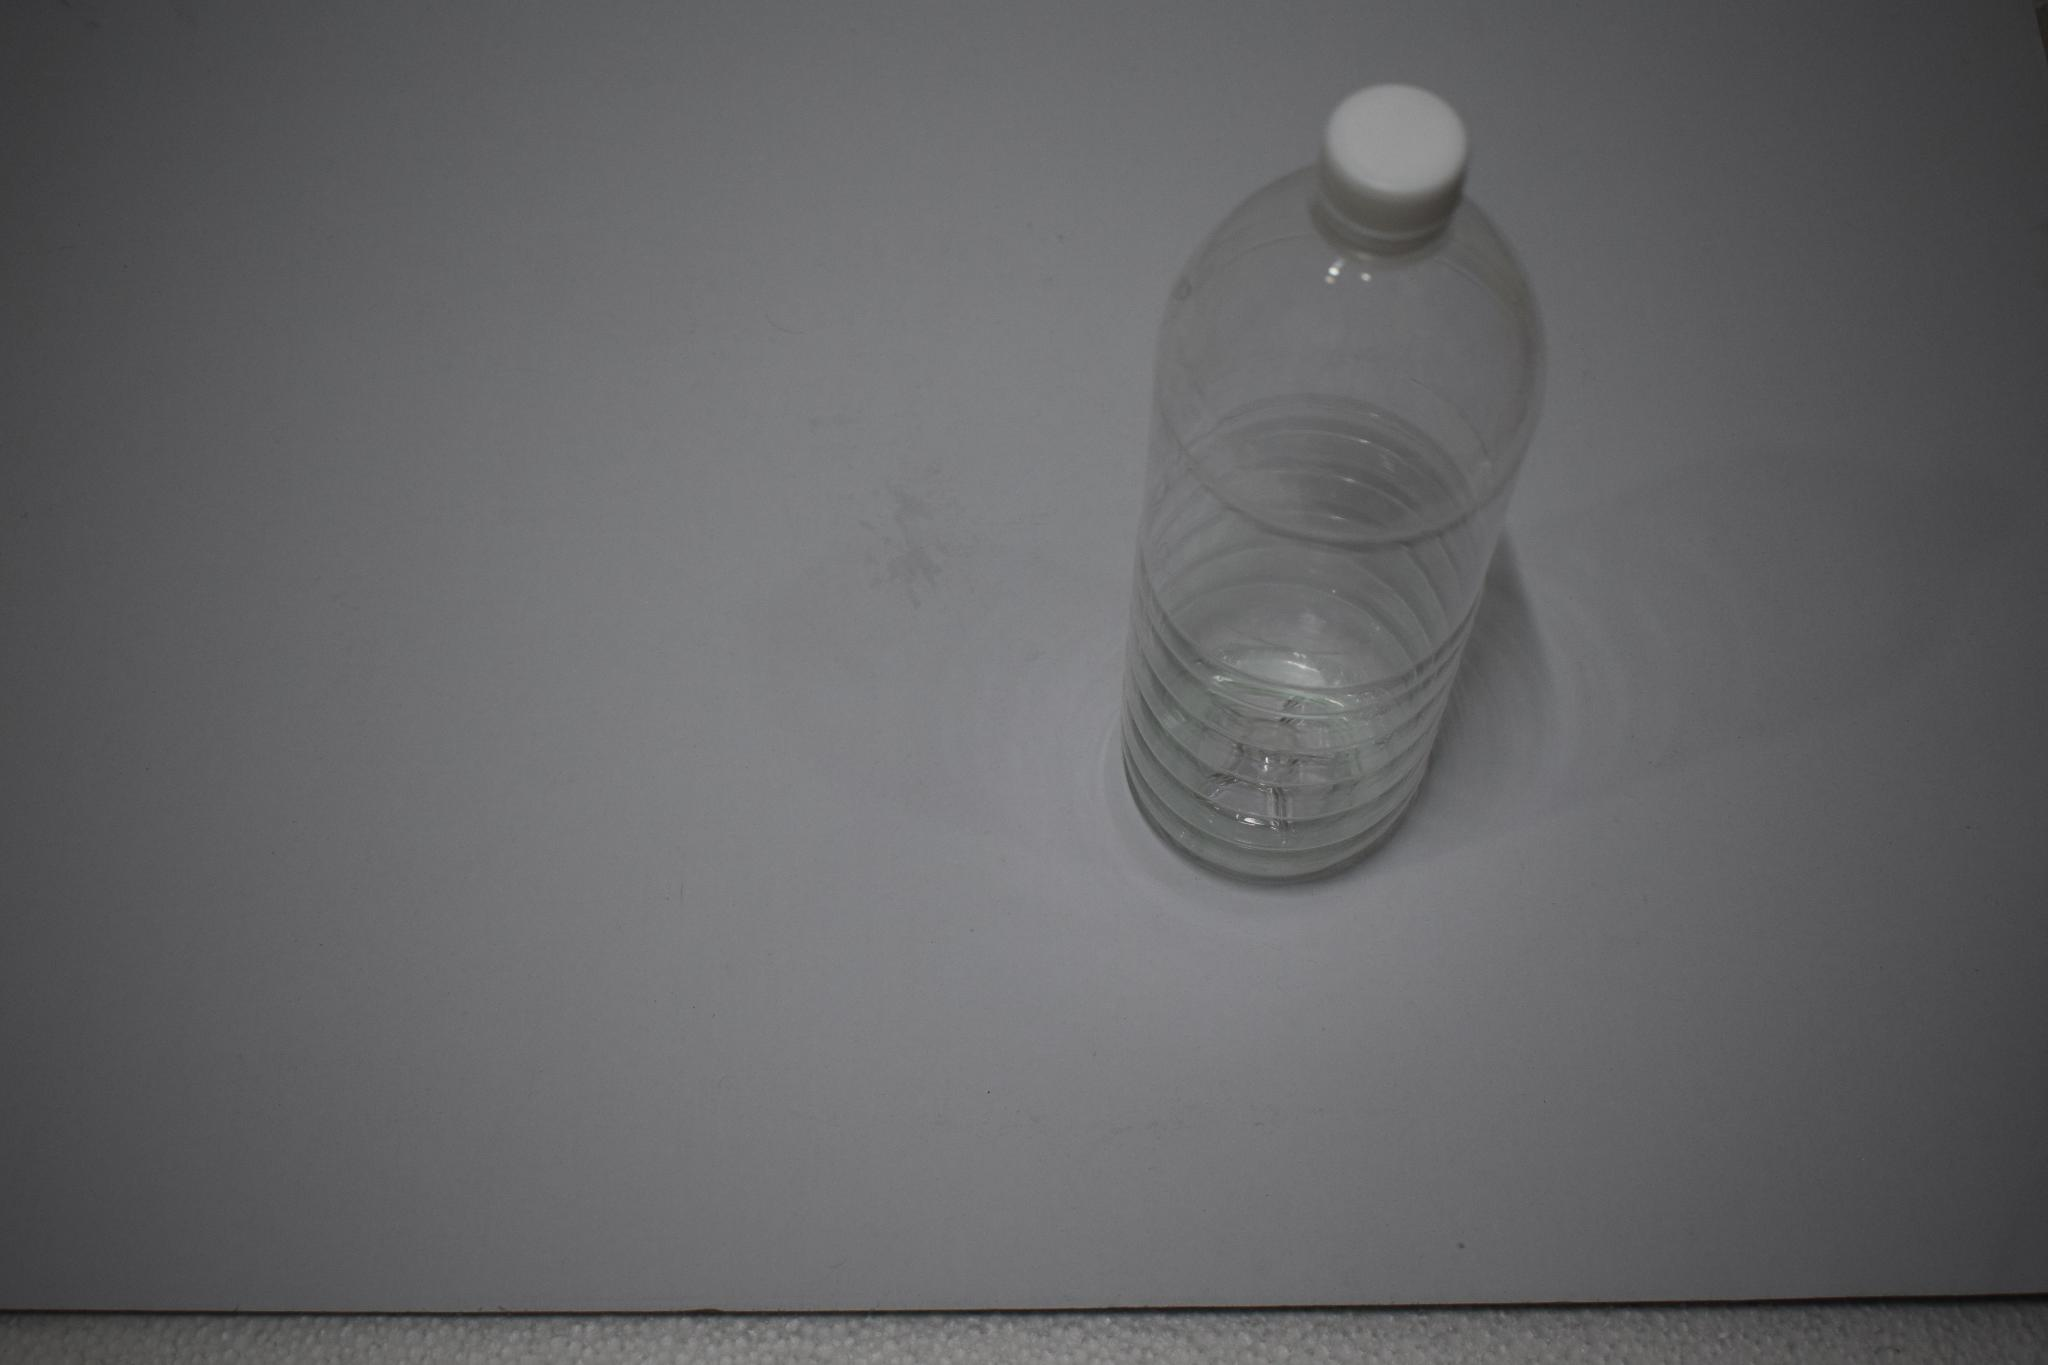bottle: (1113, 79, 1576, 899)
